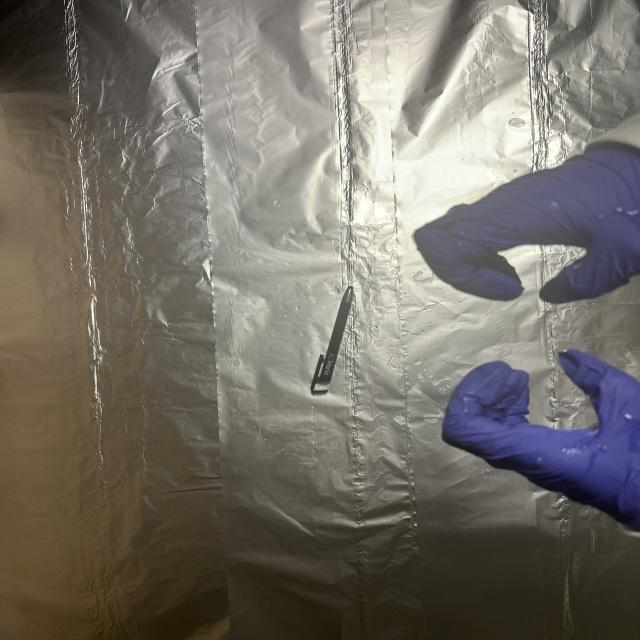gloves_contaminated: (415, 143, 640, 304), (442, 349, 640, 530)
